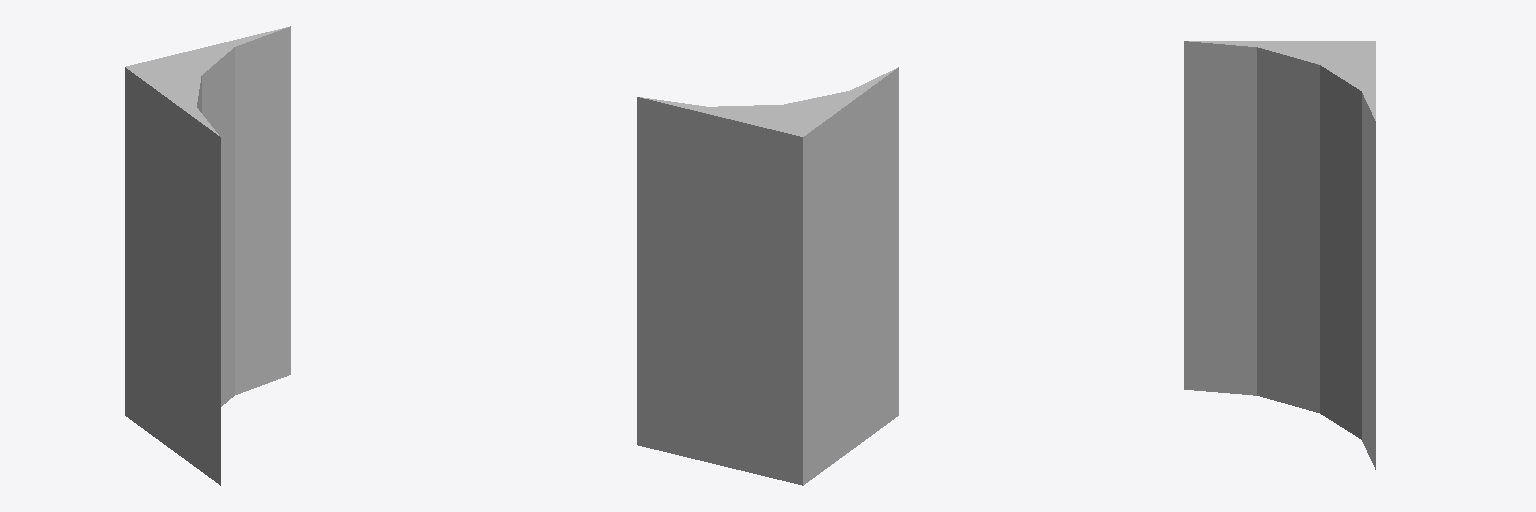
File: SpiralStairsWallR1mA.obj
3 views of the same model, side by side, from view 1: azimuth 30°, elevation 25°; view 2: azimuth 150°, elevation 25°; view 3: azimuth 270°, elevation 25° (orthographic).
Bounding box in the file's own units: 1 × 2 × 1.